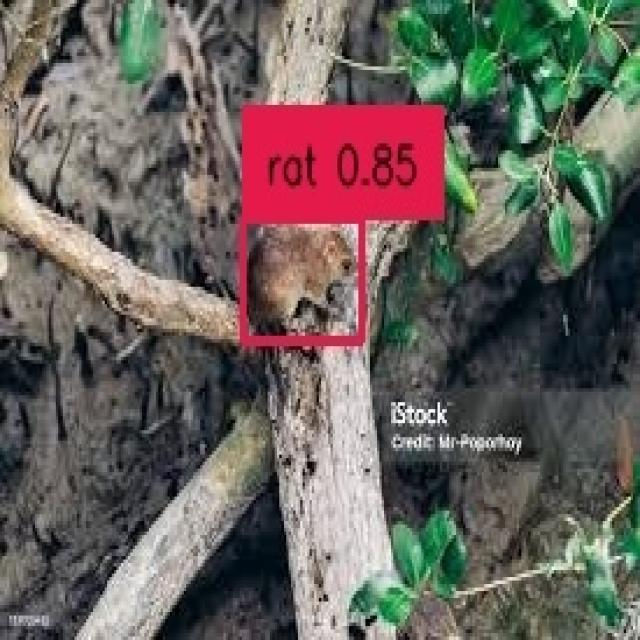rat: (240, 213, 358, 336)
